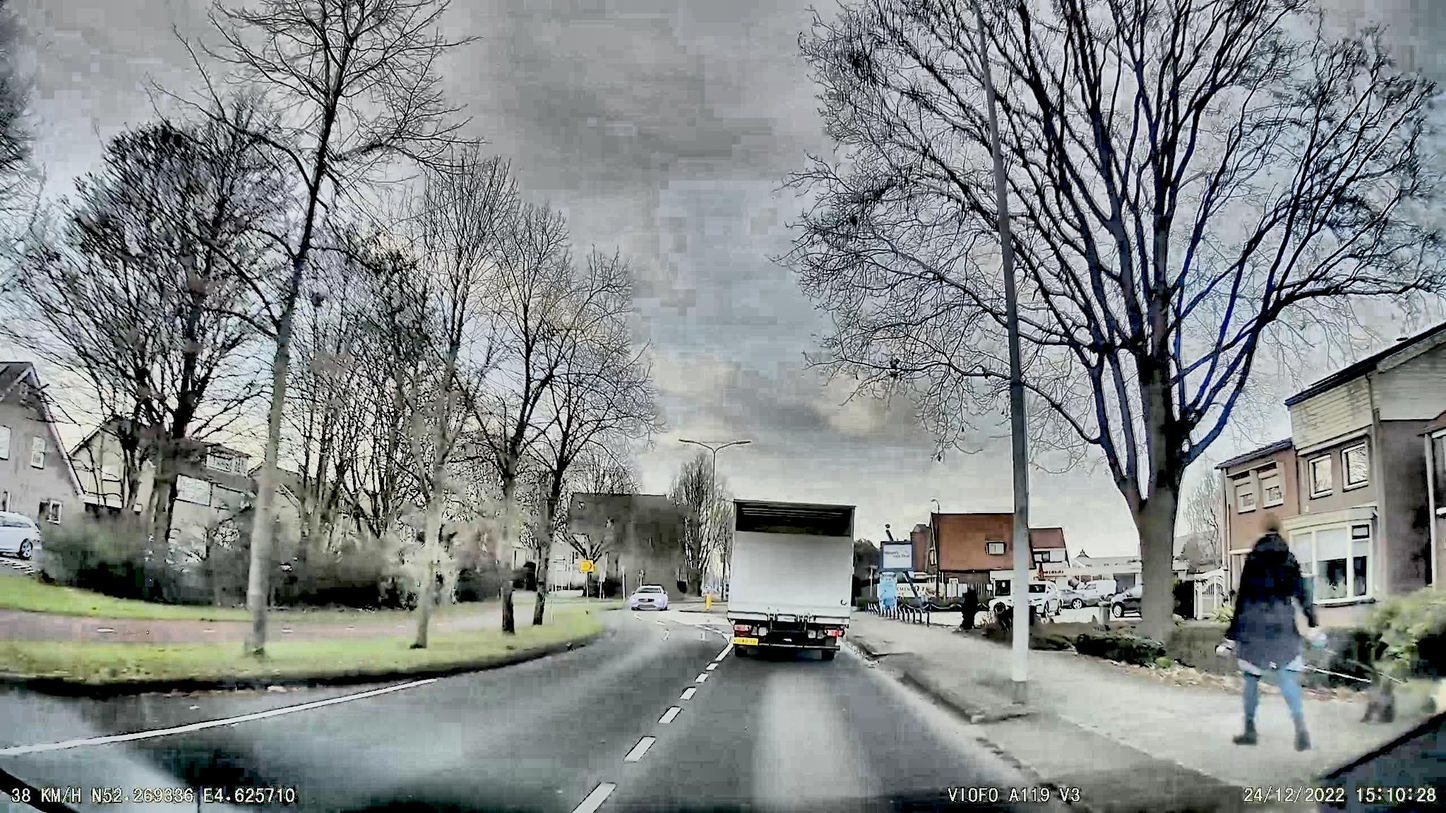Roads: (0, 628, 1014, 813)
